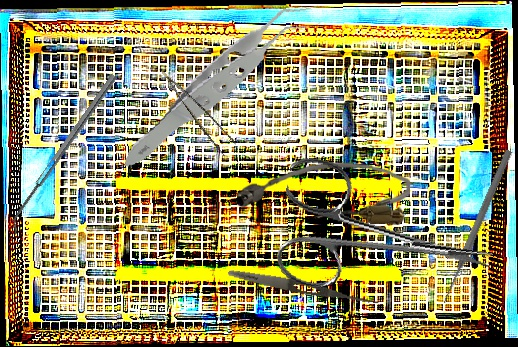Cannula: (235, 156, 412, 226)
Dressing Forceps: (227, 266, 380, 309)
Iris Scissors: (268, 154, 505, 320)
Pusher: (439, 148, 514, 305)
Spatula Surgical: (4, 73, 124, 235)
Tissue Forceps: (102, 0, 344, 171), (160, 60, 240, 160)
